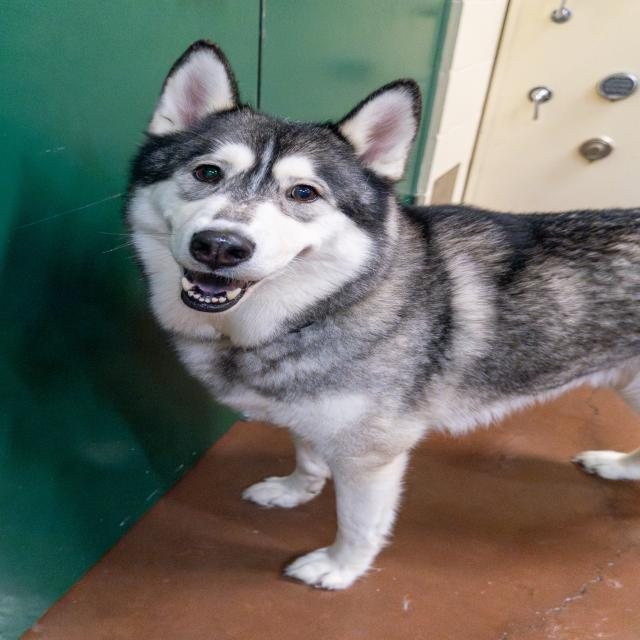siberian_husky_dog: (117, 35, 437, 379)
